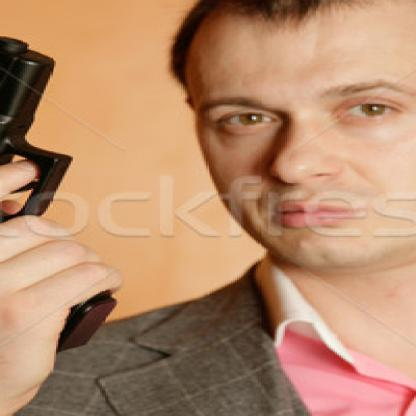gun: (0, 32, 138, 363)
